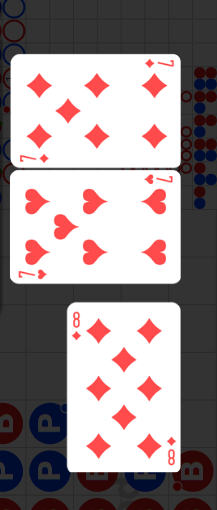7D: (19, 152, 50, 164)
7H: (17, 268, 49, 281)
8D: (165, 434, 177, 466)
